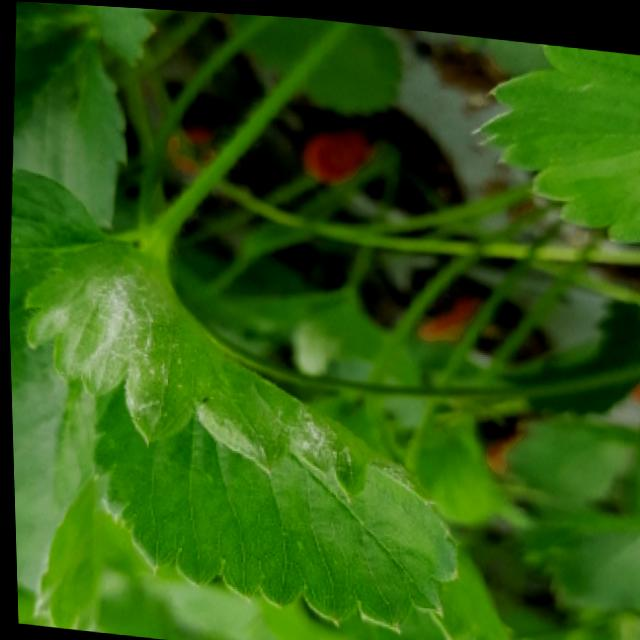Powdery Mildew Leaf: (18, 240, 458, 629)
